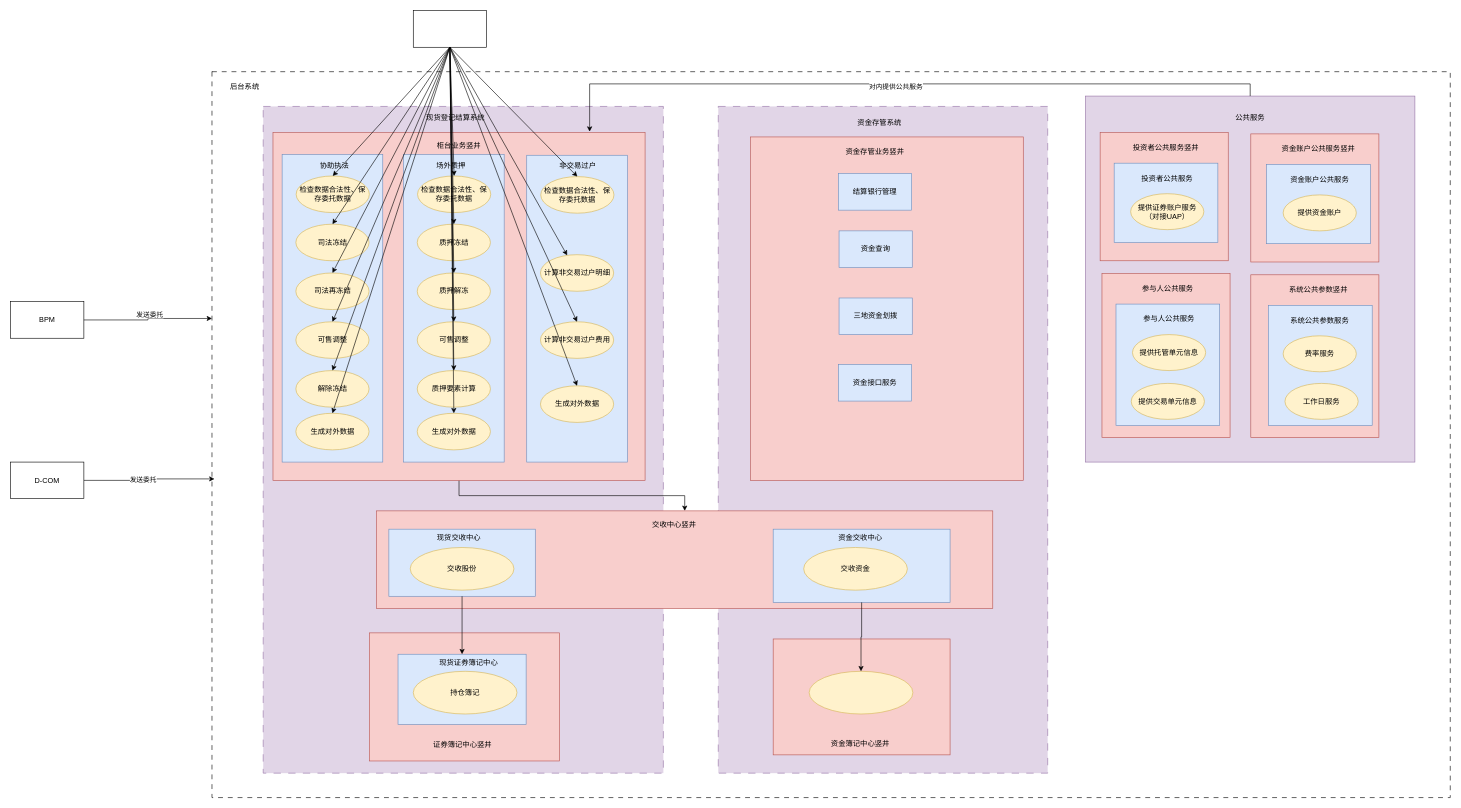
The diagram is 1461 pixels wide and 808 high, and some of its shapes have lost their labels. Each missing label, with the centre of its shape:
"ICP" belongs at [449,28].
"资金簿记" belongs at [861,692].
